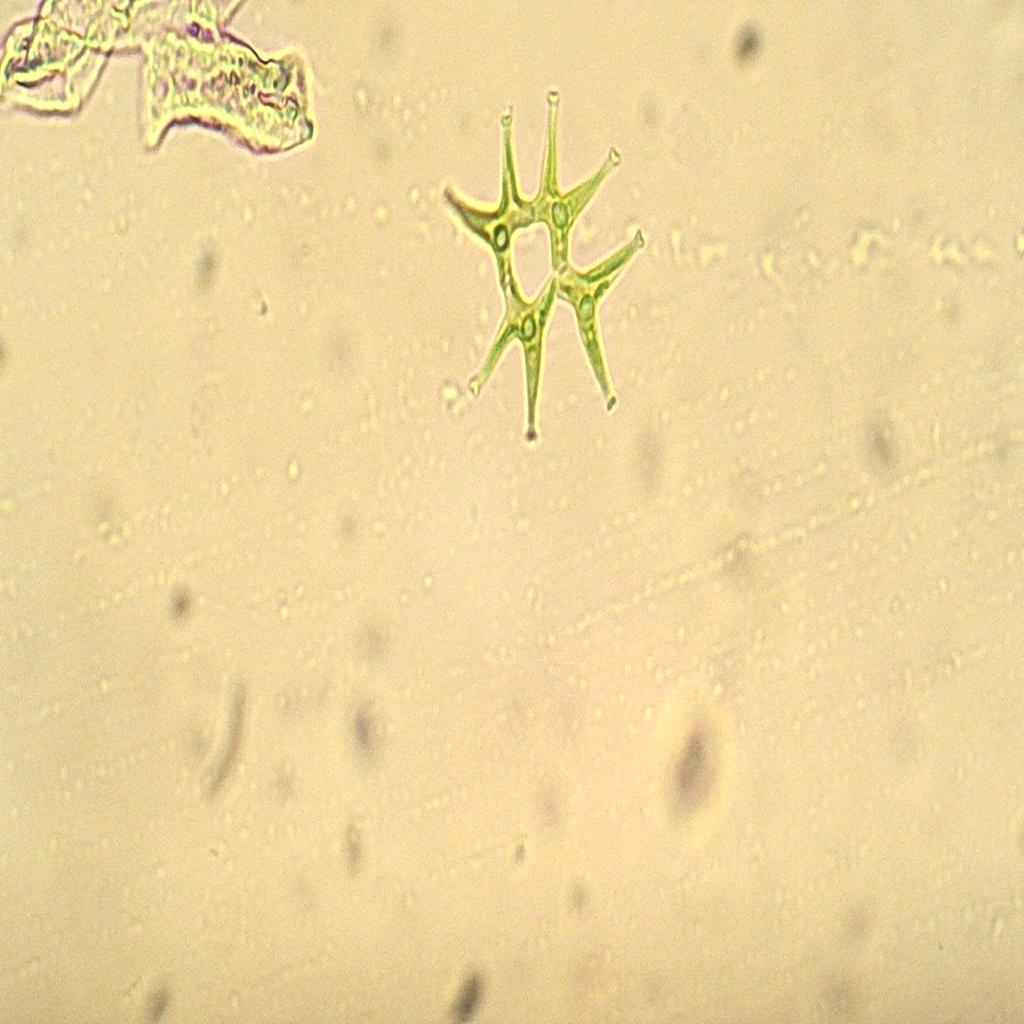Pediastrum_CT: (434, 70, 651, 461)
